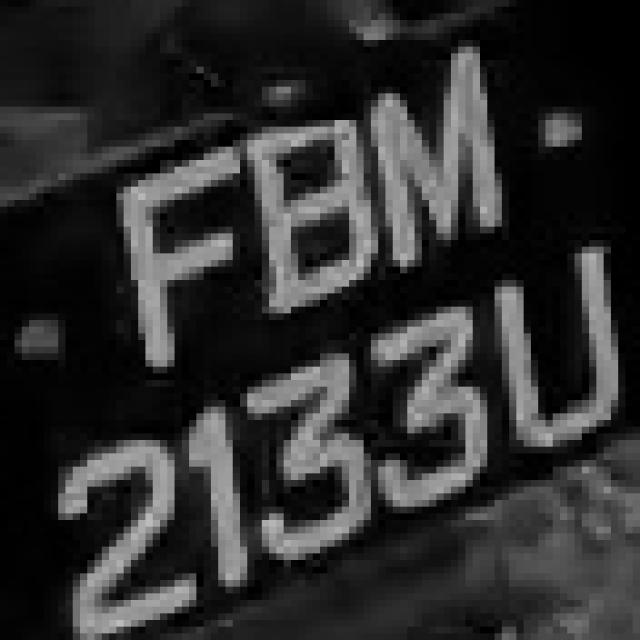1: (174, 380, 262, 600)
2: (51, 420, 196, 640)
3: (349, 313, 502, 520), (247, 353, 378, 560)
B: (233, 87, 385, 313)
F: (95, 153, 247, 380)
M: (364, 54, 509, 274)
U: (472, 254, 632, 454)
